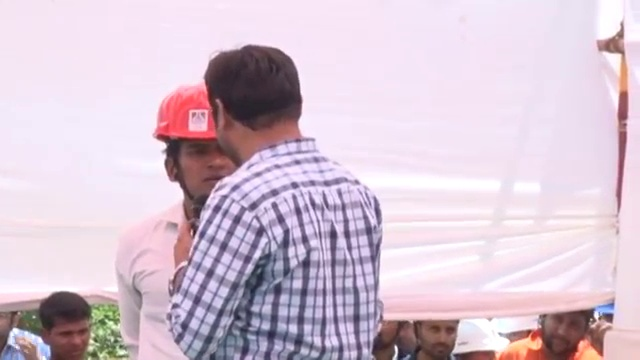helmet: (153, 82, 218, 142), (451, 314, 511, 354)
helmet_off: (199, 48, 305, 164), (35, 292, 97, 360), (539, 309, 591, 354), (412, 320, 460, 360), (371, 319, 405, 360), (0, 311, 17, 339)
helmet_on: (153, 81, 240, 216)
person: (170, 45, 389, 360), (112, 69, 246, 360), (499, 308, 603, 360), (0, 310, 51, 360)
